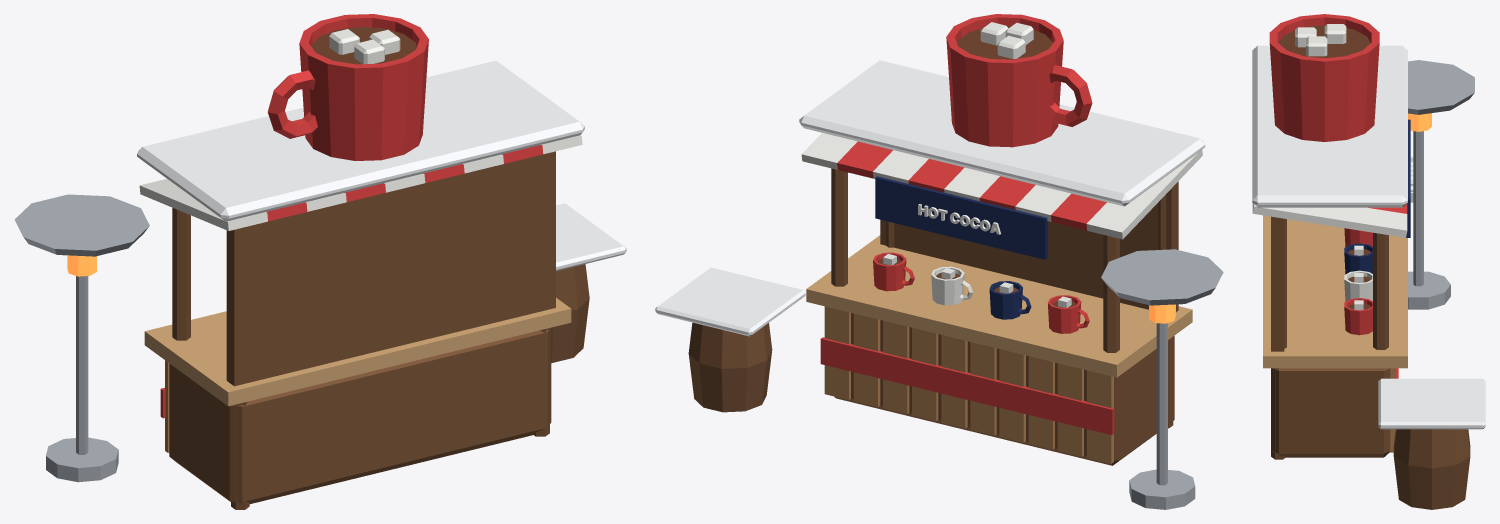
Rendered from HotCocoaStand.fbx.
3 views of the same model, side by side, from view 1: azimuth 30°, elevation 25°; view 2: azimuth 150°, elevation 25°; view 3: azimuth 270°, elevation 25° (orthographic). The views are drawn at different scales.
Visible parts, largest first — view 1: HotCocoaStand_WoodDark, HotCocoaStand_Snow, HotCocoaStand_Red, HotCocoaStand_Metal, HotCocoaStand_WoodLight, HotCocoaStand_White, HotCocoaStand_Chocolate; view 2: HotCocoaStand_Snow, HotCocoaStand_Red, HotCocoaStand_WoodDark, HotCocoaStand_WoodLight, HotCocoaStand_Plank, HotCocoaStand_White, HotCocoaStand_Metal, HotCocoaStand_Navy, HotCocoaStand_Chocolate; view 3: HotCocoaStand_Snow, HotCocoaStand_WoodDark, HotCocoaStand_WoodLight, HotCocoaStand_Red, HotCocoaStand_Metal, HotCocoaStand_White, HotCocoaStand_Chocolate, HotCocoaStand_Navy, HotCocoaStand_Ember.
Boxes of the visible parts, box(x1,y1,x2,y2) form: HotCocoaStand_WoodDark: box(169, 151, 589, 509); HotCocoaStand_Snow: box(137, 60, 626, 270); HotCocoaStand_Red: box(160, 14, 543, 418); HotCocoaStand_Metal: box(14, 194, 149, 482); HotCocoaStand_WoodLight: box(144, 297, 571, 406); HotCocoaStand_White: box(139, 29, 582, 230); HotCocoaStand_Chocolate: box(311, 26, 416, 64); HotCocoaStand_Snow: box(655, 60, 1205, 336); HotCocoaStand_Red: box(820, 14, 1114, 434); HotCocoaStand_WoodDark: box(688, 168, 1178, 465); HotCocoaStand_WoodLight: box(806, 235, 1192, 377); HotCocoaStand_Plank: box(824, 306, 1113, 463); HotCocoaStand_White: box(801, 22, 1202, 307); HotCocoaStand_Metal: box(1101, 249, 1223, 509); HotCocoaStand_Navy: box(875, 176, 1047, 319); HotCocoaStand_Chocolate: box(877, 25, 1076, 307); HotCocoaStand_Snow: box(1252, 45, 1485, 429); HotCocoaStand_WoodDark: box(1271, 216, 1470, 509); HotCocoaStand_WoodLight: box(1263, 215, 1407, 368); HotCocoaStand_Red: box(1269, 14, 1407, 378); HotCocoaStand_Metal: box(1408, 60, 1474, 309); HotCocoaStand_White: box(1252, 24, 1413, 310); HotCocoaStand_Chocolate: box(1279, 25, 1370, 309); HotCocoaStand_Navy: box(1344, 119, 1410, 274); HotCocoaStand_Ember: box(1408, 113, 1431, 131).
Bounding box in the file's own units: 21.7 × 14.8 × 8.7.
